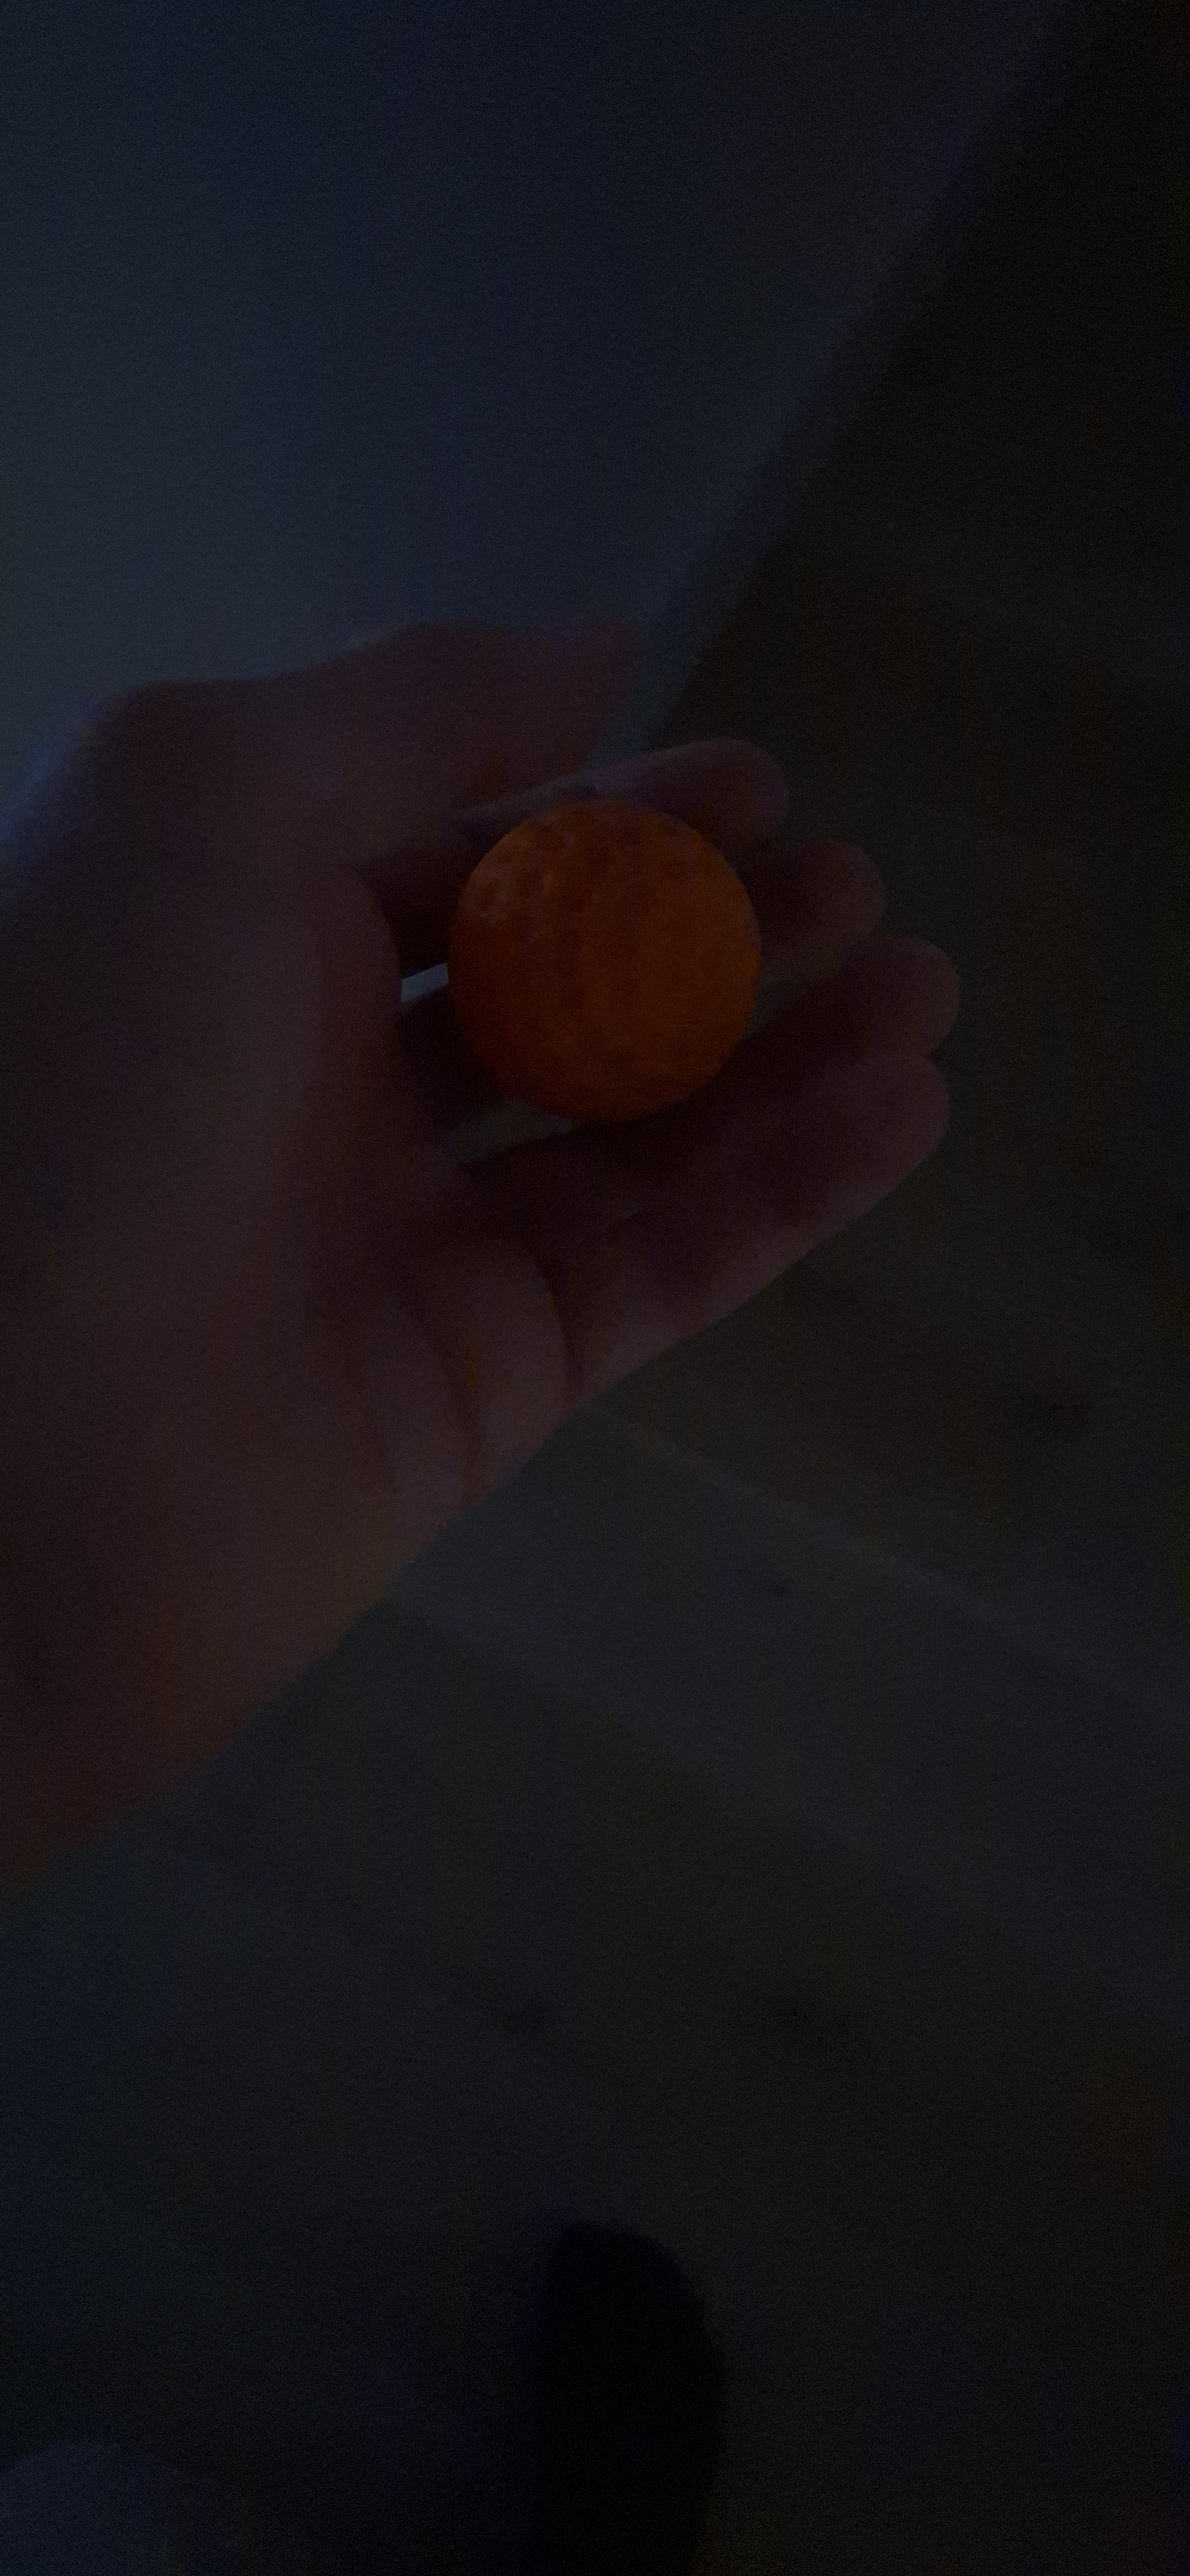ball: (368, 933, 516, 1589)
